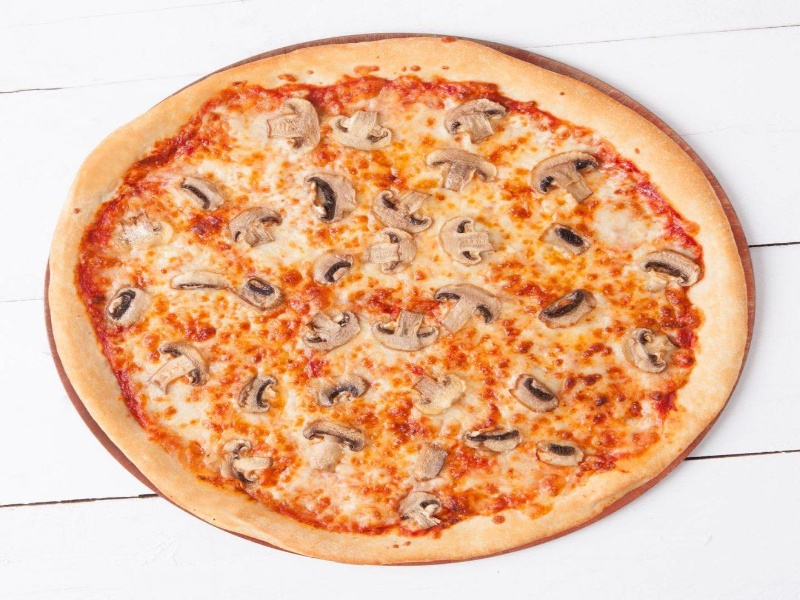champignon: (526, 142, 603, 214), (256, 91, 324, 160), (433, 279, 512, 337), (433, 213, 507, 272), (422, 149, 504, 201), (326, 102, 405, 154), (301, 420, 373, 476), (370, 181, 439, 237), (369, 306, 447, 354), (617, 325, 685, 380), (406, 368, 475, 422), (146, 342, 211, 399), (440, 96, 514, 146), (294, 306, 366, 354), (302, 172, 364, 226), (360, 227, 425, 277), (226, 201, 288, 252), (640, 244, 704, 293), (540, 219, 603, 265), (221, 437, 276, 489), (537, 287, 600, 332), (230, 367, 281, 420), (100, 289, 154, 339), (316, 370, 380, 412), (458, 428, 530, 465), (231, 272, 286, 318), (511, 375, 564, 420), (397, 493, 454, 534), (532, 435, 595, 471), (310, 249, 359, 290)
